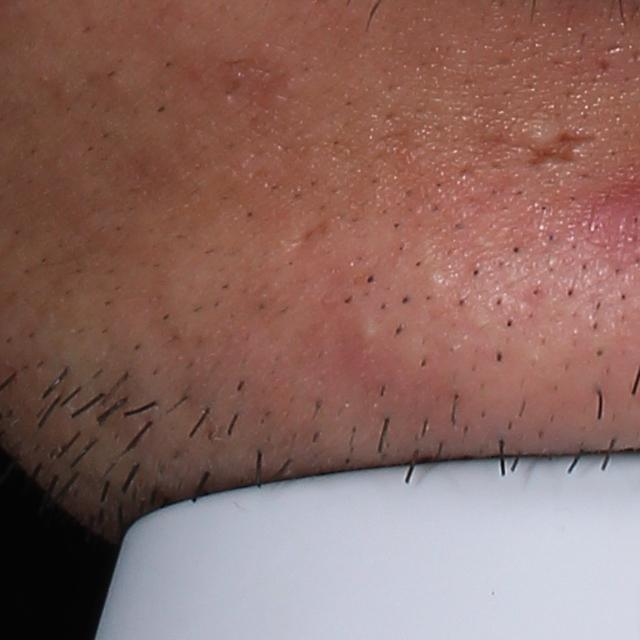atrophic_scar: (534, 128, 607, 167), (286, 214, 332, 254)
hypertrophic_scar: (522, 119, 561, 148)
